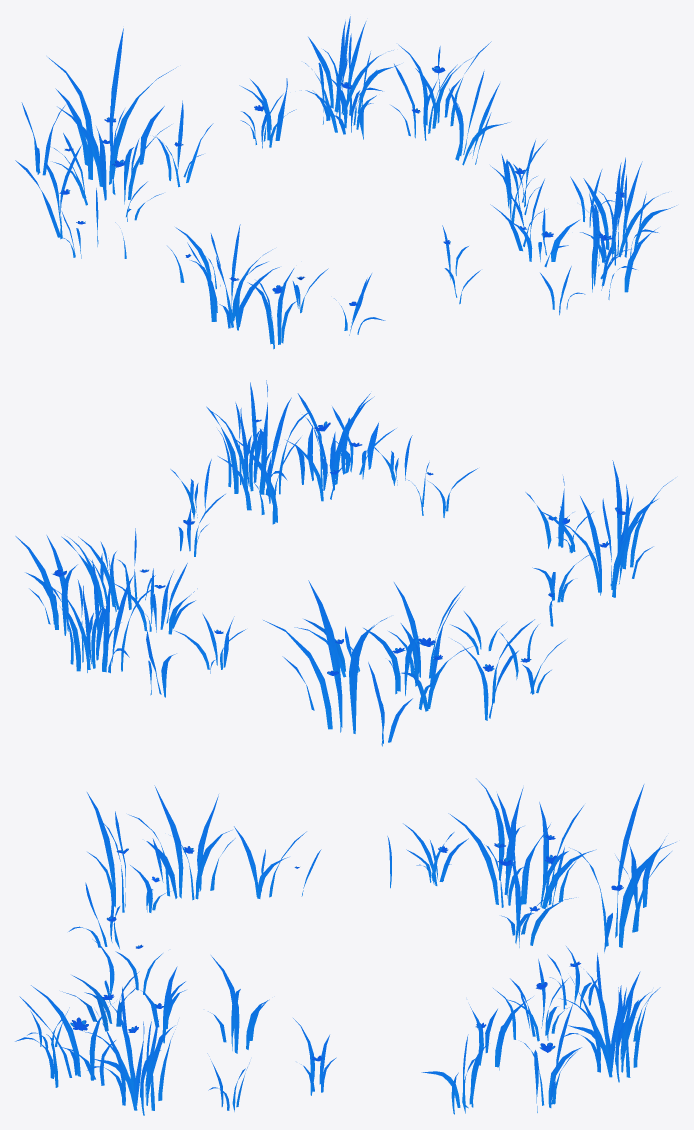
File: Homeworld_Exterior_Common_Thing_FieldGrass_01_Lod0.fbx
3 renders of one model, top to bottom at view 1: azimuth 30°, elevation 25°; view 2: azimuth 150°, elevation 25°; view 3: azimuth 270°, elevation 25°, orthographic. The views are drawn at different scales.
Visible parts, largest first — view 1: Homeworld_Exterior_Common_Thing_FieldGrass_01_Lod0; view 2: Homeworld_Exterior_Common_Thing_FieldGrass_01_Lod0; view 3: Homeworld_Exterior_Common_Thing_FieldGrass_01_Lod0.
Boxes of the visible parts, x1,y1,x2,y2 form: Homeworld_Exterior_Common_Thing_FieldGrass_01_Lod0: [15, 16, 676, 349]; Homeworld_Exterior_Common_Thing_FieldGrass_01_Lod0: [15, 380, 673, 746]; Homeworld_Exterior_Common_Thing_FieldGrass_01_Lod0: [15, 778, 675, 1115].
Bounding box in the file's own units: 5.19 × 1.34 × 5.57.
